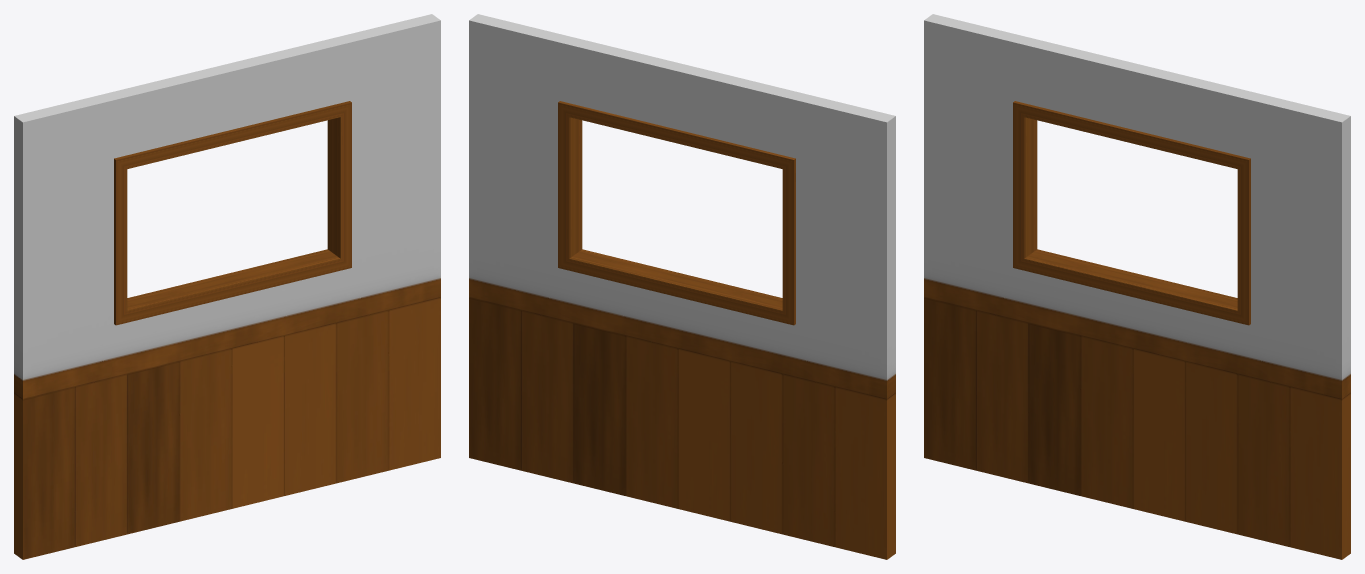
Rendered from wallwindow_002_8.glb.
3 renders of one model, left to right at view 1: azimuth 30°, elevation 25°; view 2: azimuth 150°, elevation 25°; view 3: azimuth 330°, elevation 25°, orthographic.
Parts seen in each view (by area): view 1: wallwindow.002_8; view 2: wallwindow.002_8; view 3: wallwindow.002_8.
Part boxes in pixels (x1,y1,x2,y2): wallwindow.002_8: (14, 14, 440, 559); wallwindow.002_8: (469, 14, 895, 559); wallwindow.002_8: (924, 14, 1350, 559).
Size of the model in its own units: 2 by 2 by 0.1079.
1 material, 1 textured.
